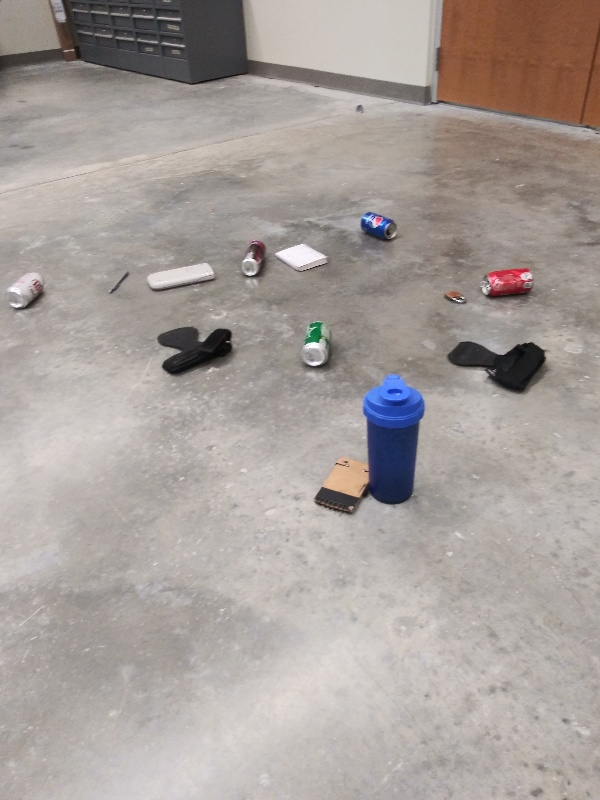can: (476, 266, 539, 300), (5, 268, 47, 311), (299, 319, 334, 369), (238, 236, 270, 280), (358, 208, 399, 241)
